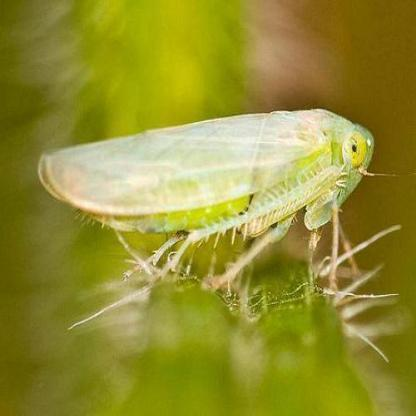green-leafhopper: (28, 108, 378, 300)
